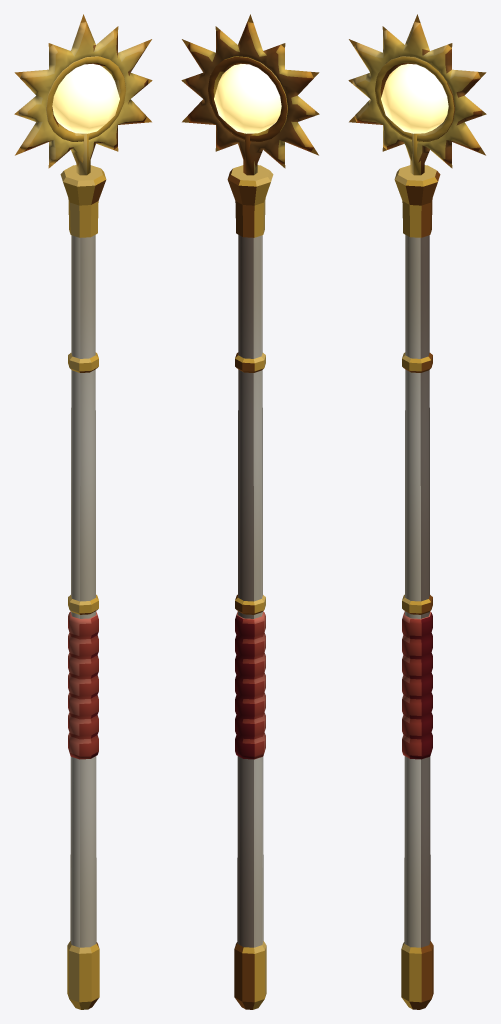
Rendered from st_sun_staff.glb.
3 views of the same model, side by side, from view 1: azimuth 30°, elevation 25°; view 2: azimuth 150°, elevation 25°; view 3: azimuth 330°, elevation 25° (orthographic).
Visible parts, largest first — view 1: Weapon; view 2: Weapon; view 3: Weapon.
Part boxes in pixels (x1=…): Weapon: x1=14, y1=14, x2=152, y2=1009; Weapon: x1=181, y1=14, x2=319, y2=1009; Weapon: x1=348, y1=14, x2=486, y2=1009.
Size of the model in its own units: 0.27 by 1.85 by 0.1179.
